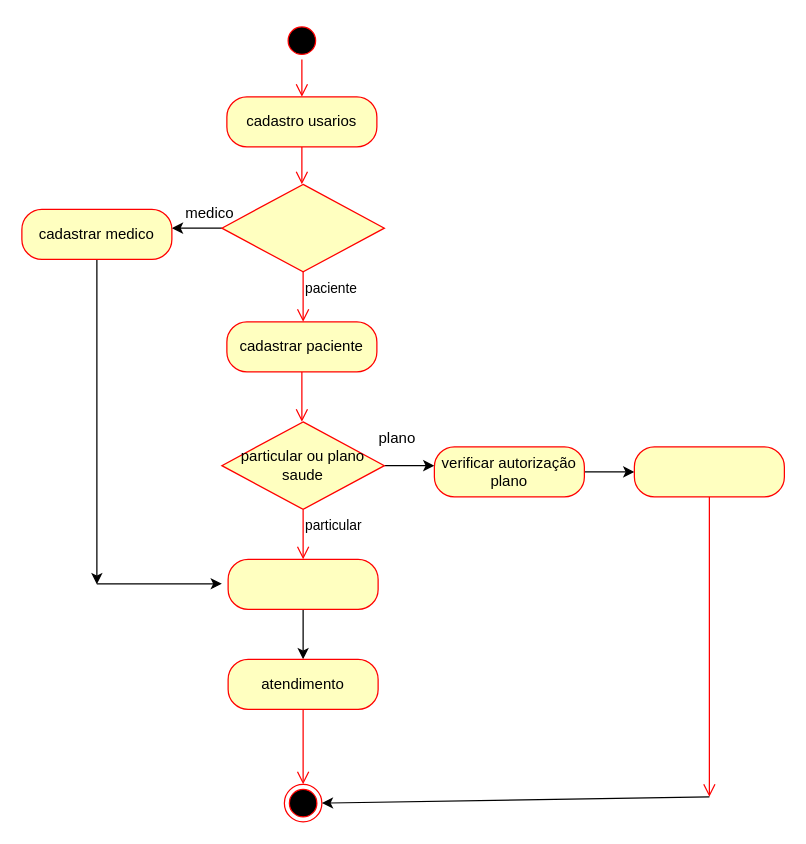
Some shapes in this 806 by 844 pixel diagram are drawn without their labels. The shapes that lost their labels are listed below. From the top down, each one's centre as x and y in pixels, then its label:
At point (302, 227): "paciente ou medico".
At point (708, 471): "verifica datas disponiveis".
At point (302, 583): "agendar consulta".
